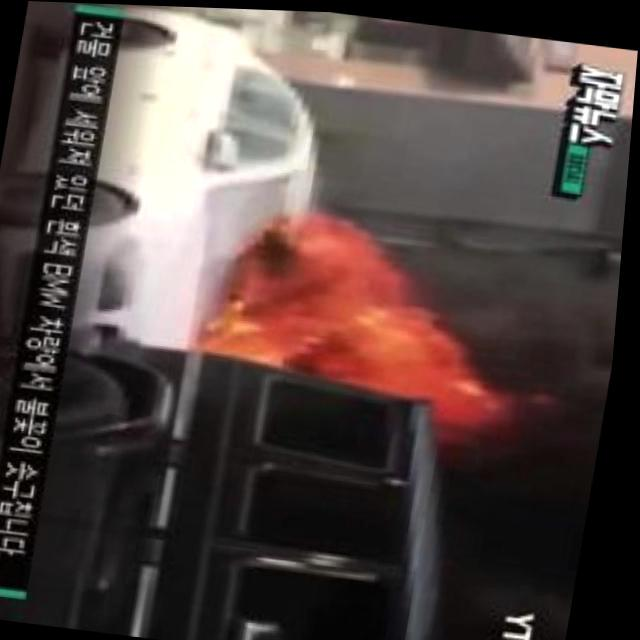fire: (218, 212, 500, 430)
